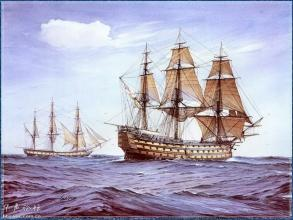fanchuan: (110, 37, 266, 162), (13, 104, 105, 159)
